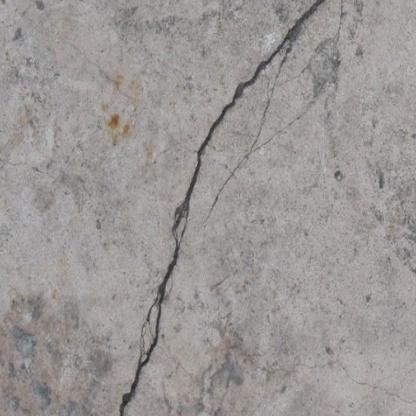Cracks: (103, 0, 366, 416), (208, 113, 306, 217), (295, 358, 416, 408), (0, 84, 34, 171)
